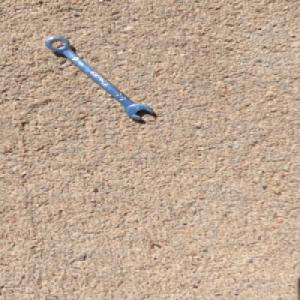Wrench: (45, 35, 157, 121)
